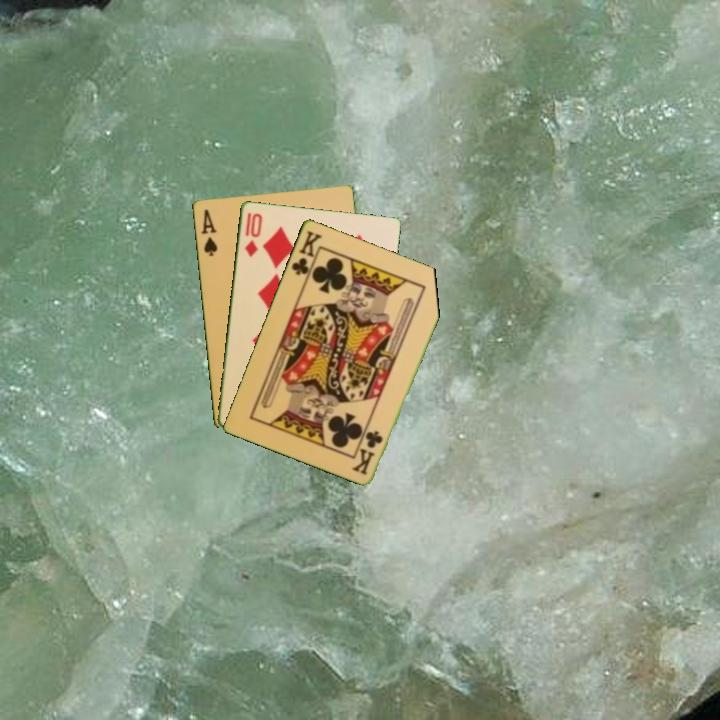10d: (241, 208, 265, 260)
As: (198, 206, 220, 259)
Kc: (288, 226, 325, 284), (351, 426, 386, 478)
